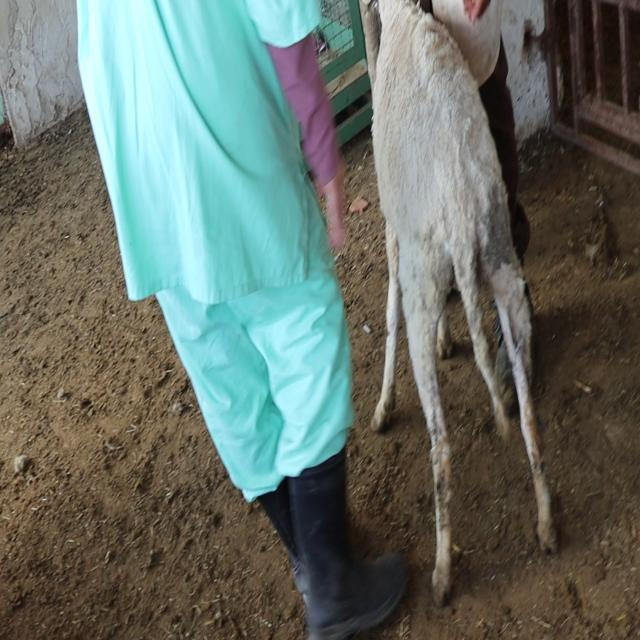Score_1: (371, 0, 556, 604)
